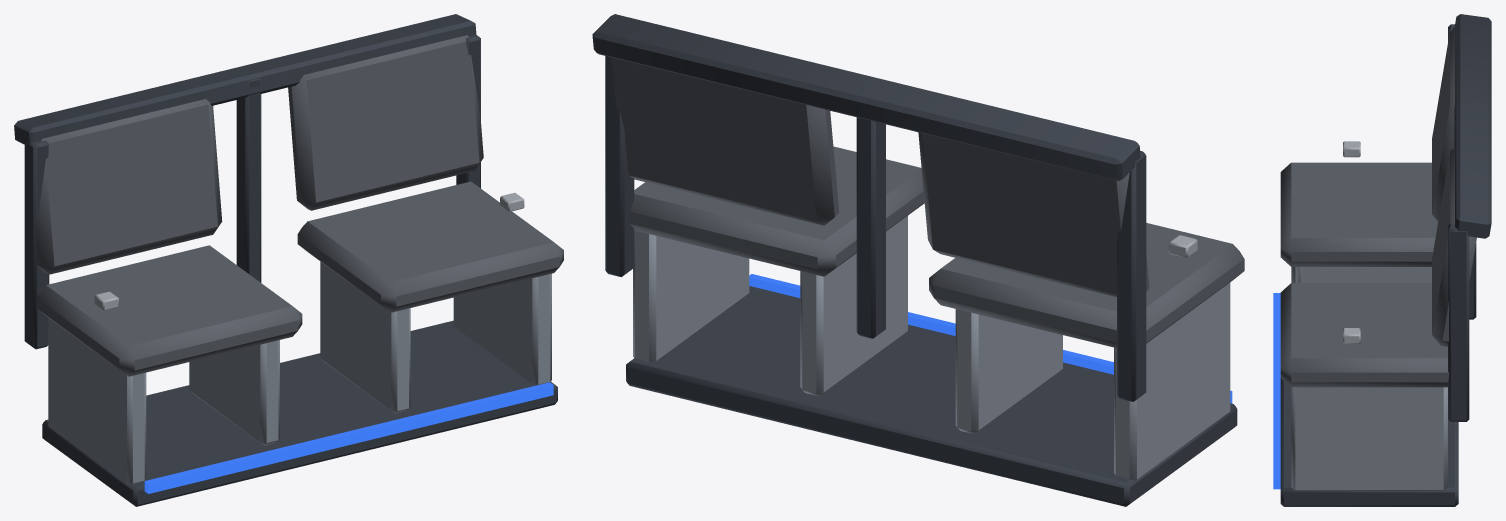
The model's file is seat_observer_bench.glb.
3 renders of one model, left to right at view 1: azimuth 30°, elevation 25°; view 2: azimuth 150°, elevation 25°; view 3: azimuth 270°, elevation 25°, orthographic. The views are drawn at different scales.
Parts seen in each view (by area): view 1: seat_observer_bench; view 2: seat_observer_bench; view 3: seat_observer_bench.
Part boxes in pixels (x1,y1,x2,y2): seat_observer_bench: (14, 14, 563, 506); seat_observer_bench: (592, 14, 1244, 506); seat_observer_bench: (1273, 14, 1491, 506).
Size of the model in its own units: 1.37 by 0.9156 by 0.6124.
